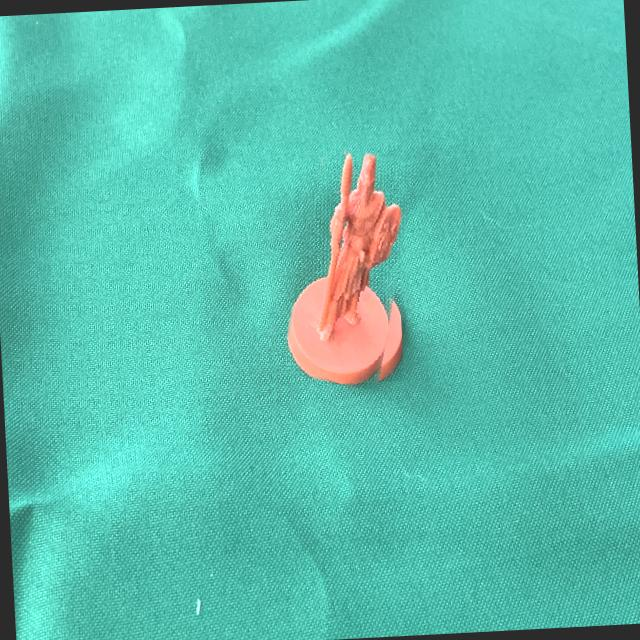amon_follower: (287, 152, 401, 386)
